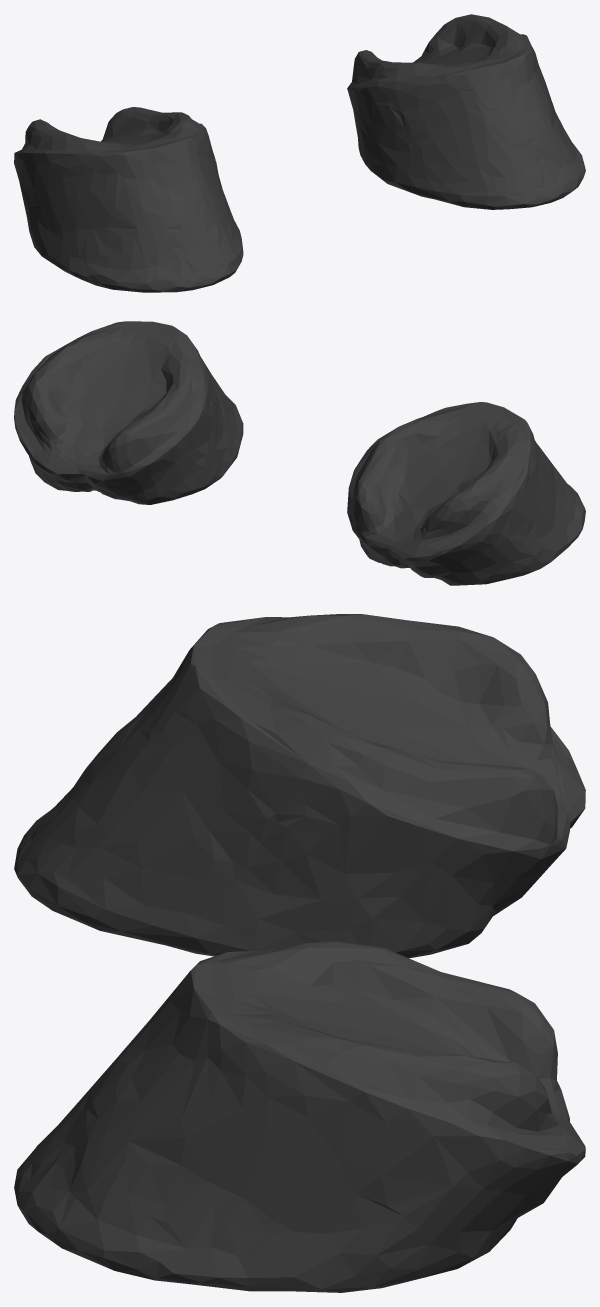
Rendered from hooves_FL.glb.
3 renders of one model, top to bottom at view 1: azimuth 30°, elevation 25°; view 2: azimuth 150°, elevation 25°; view 3: azimuth 270°, elevation 25°, orthographic. The views are drawn at different scales.
Parts seen in each view (by area): view 1: hooves_FL; view 2: hooves_FL; view 3: hooves_FL.
Part boxes in pixels (<box>): hooves_FL: <box>14,14,585,292</box>; hooves_FL: <box>14,321,585,585</box>; hooves_FL: <box>14,614,585,1292</box>.
Bounding box in the file's own units: 0.00524 × 0.00121 × 0.00255.
1 material, 1 textured.
